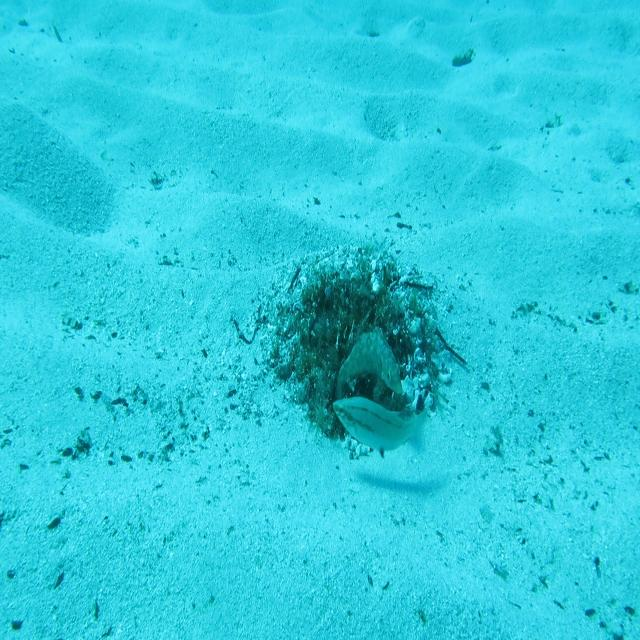DAN_CIRC: (334, 319, 404, 401)
core_nest: (327, 294, 370, 340)
female: (332, 394, 428, 460)
nest: (255, 232, 458, 477)
vegetation: (448, 46, 476, 68)
